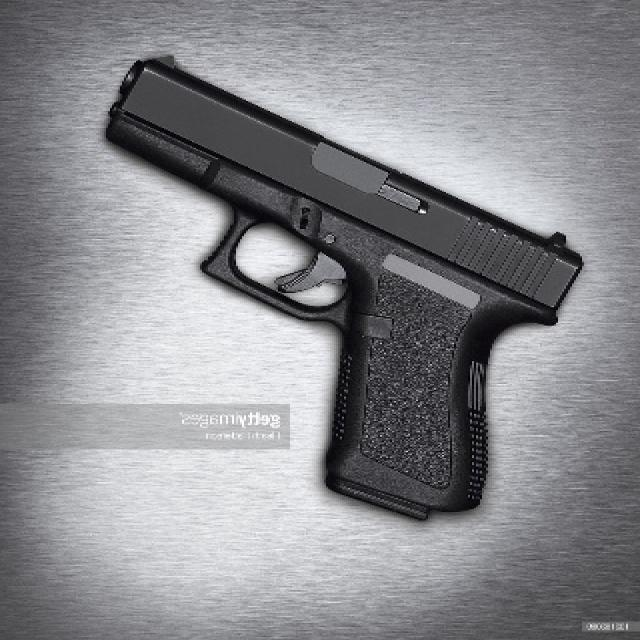handgun: (105, 53, 591, 519)
